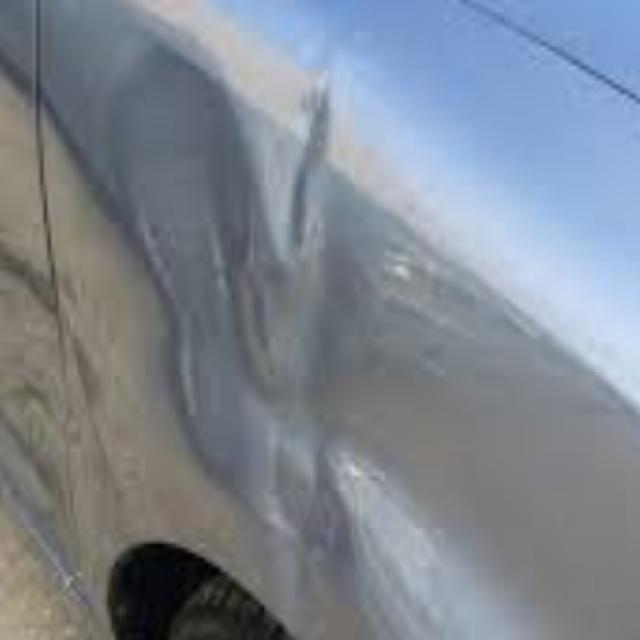dents: (88, 21, 408, 552)
